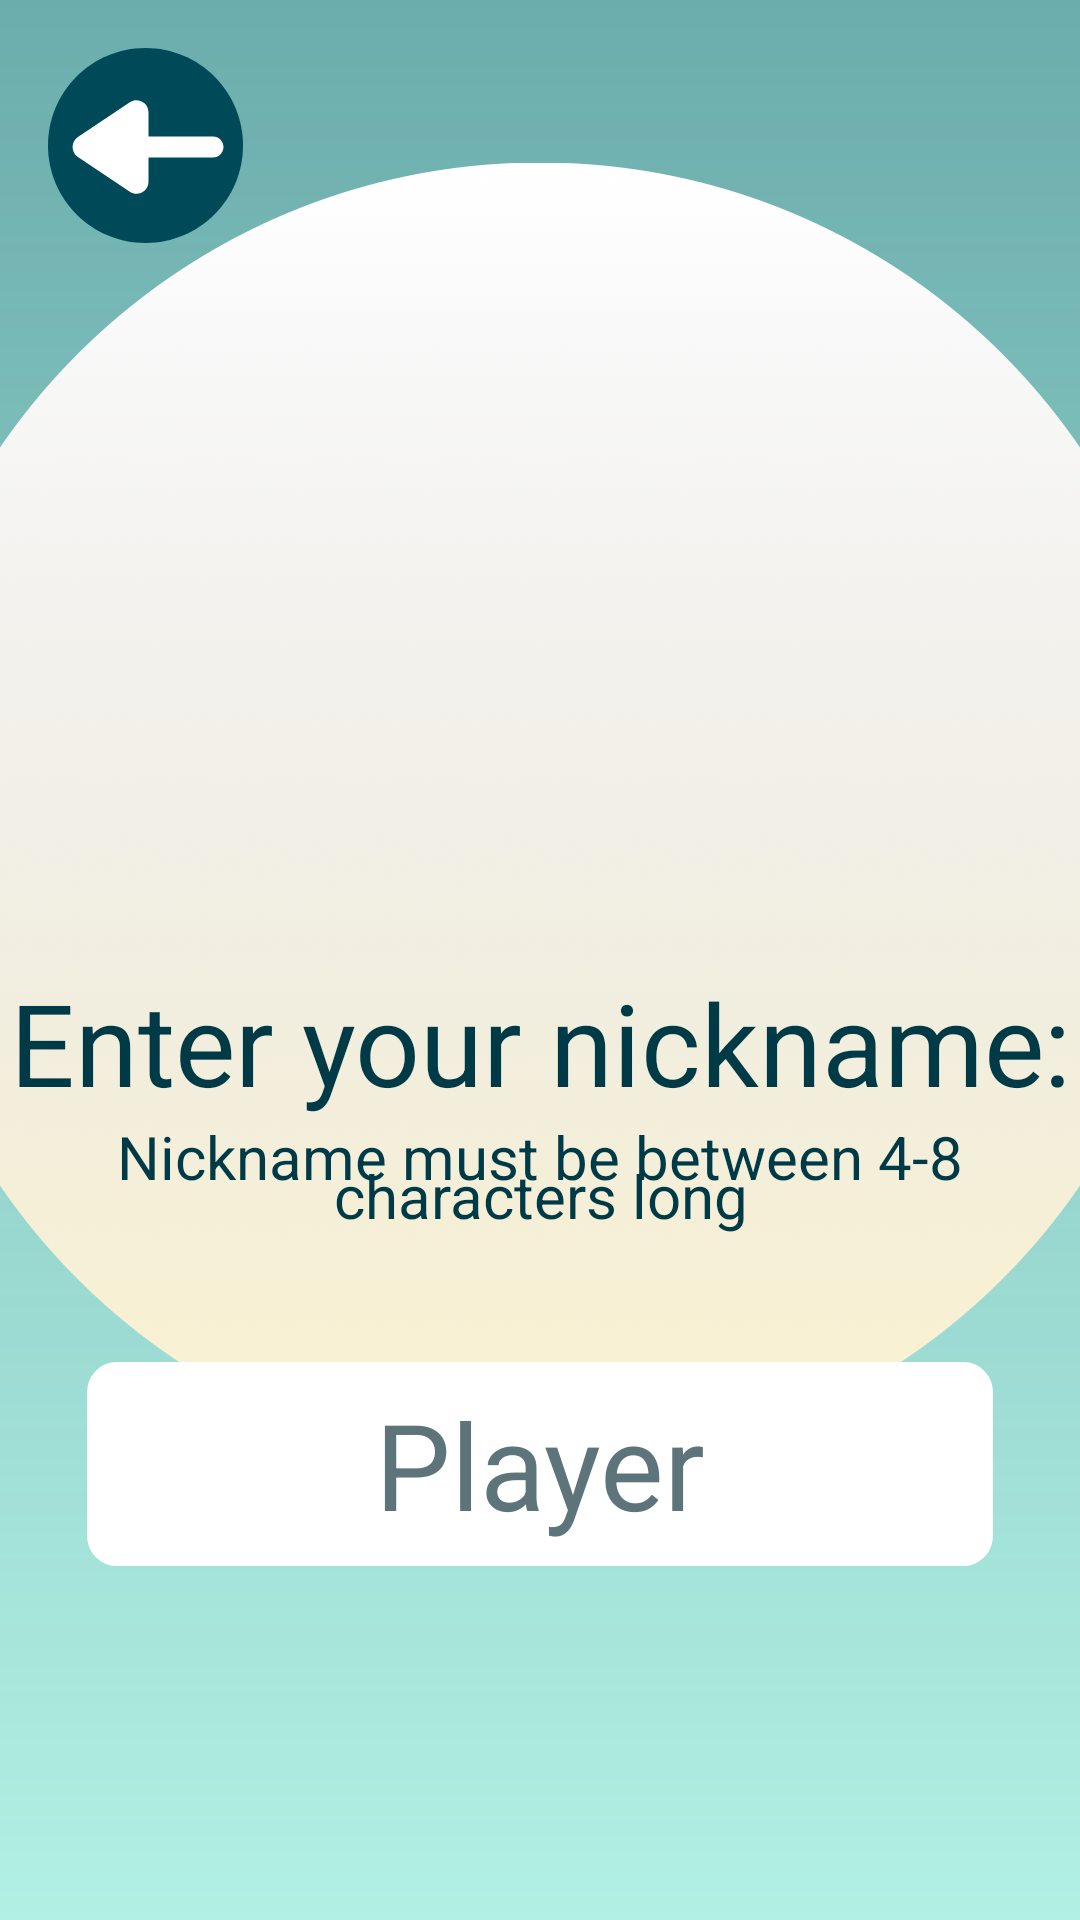

Icons on this 1080px x 1920px Android screen, each with the point to tap as [x,y]:
back: [145,145]
